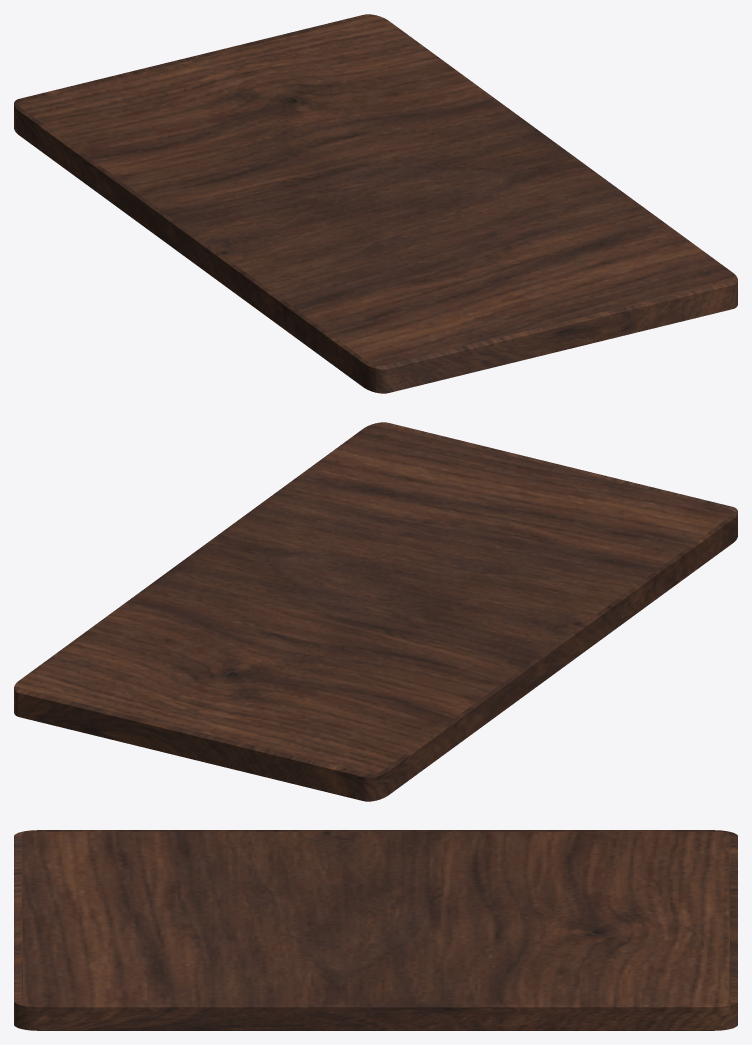
Rendered from bevelNogal.glb.
3 renders of one model, top to bottom at view 1: azimuth 30°, elevation 25°; view 2: azimuth 150°, elevation 25°; view 3: azimuth 270°, elevation 25°, orthographic.
Parts seen in each view (by area): view 1: Cube; view 2: Cube; view 3: Cube.
Part boxes in pixels (<box>): Cube: <box>14,14,737,393</box>; Cube: <box>14,422,737,801</box>; Cube: <box>14,830,737,1030</box>.
Bounding box in the file's own units: 2.57 × 0.1714 × 4.44.
Materials: 1 (1 with a texture image).
